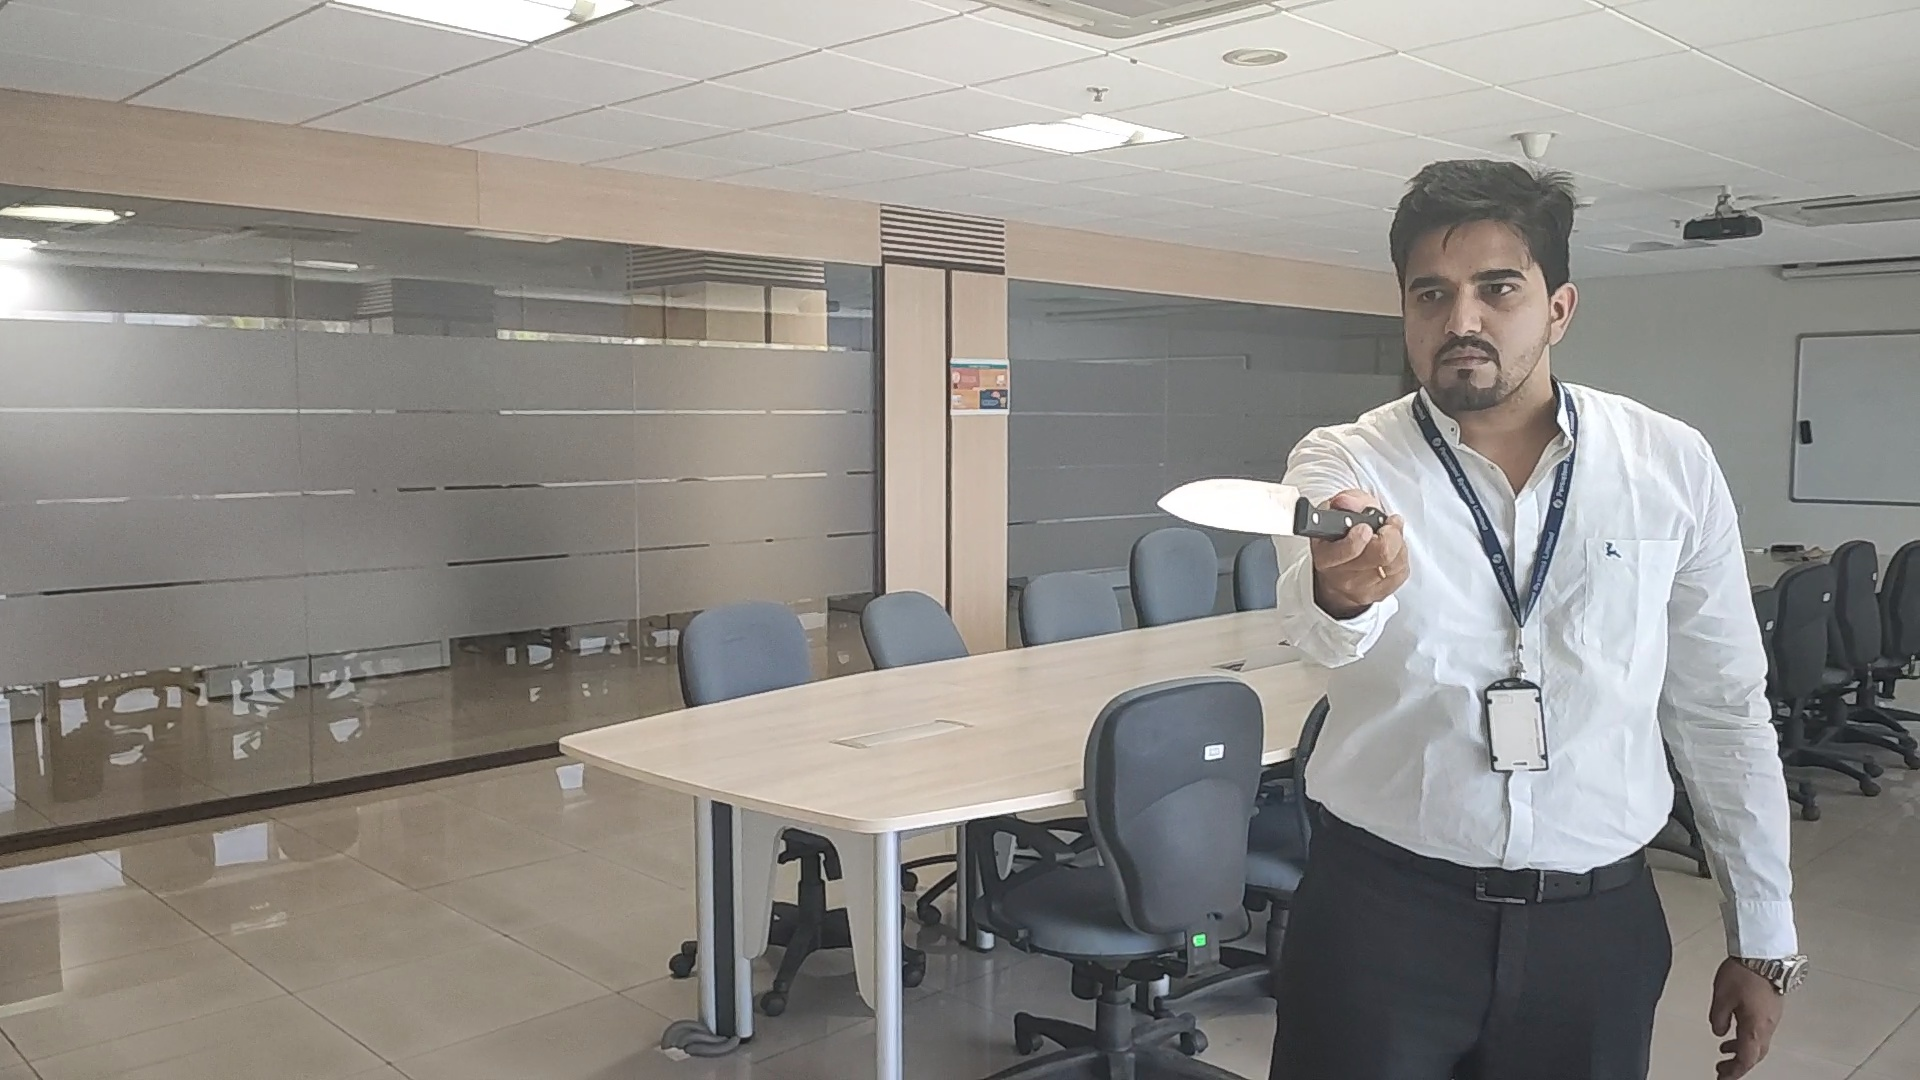knife: (1158, 476, 1349, 546)
